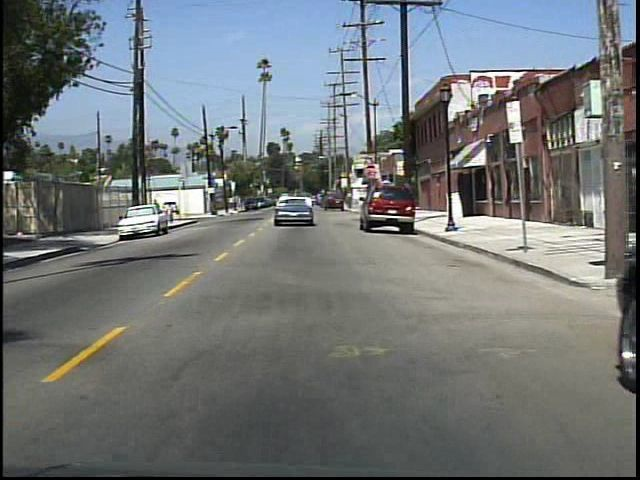person: (149, 195, 163, 225), (166, 199, 179, 224)
